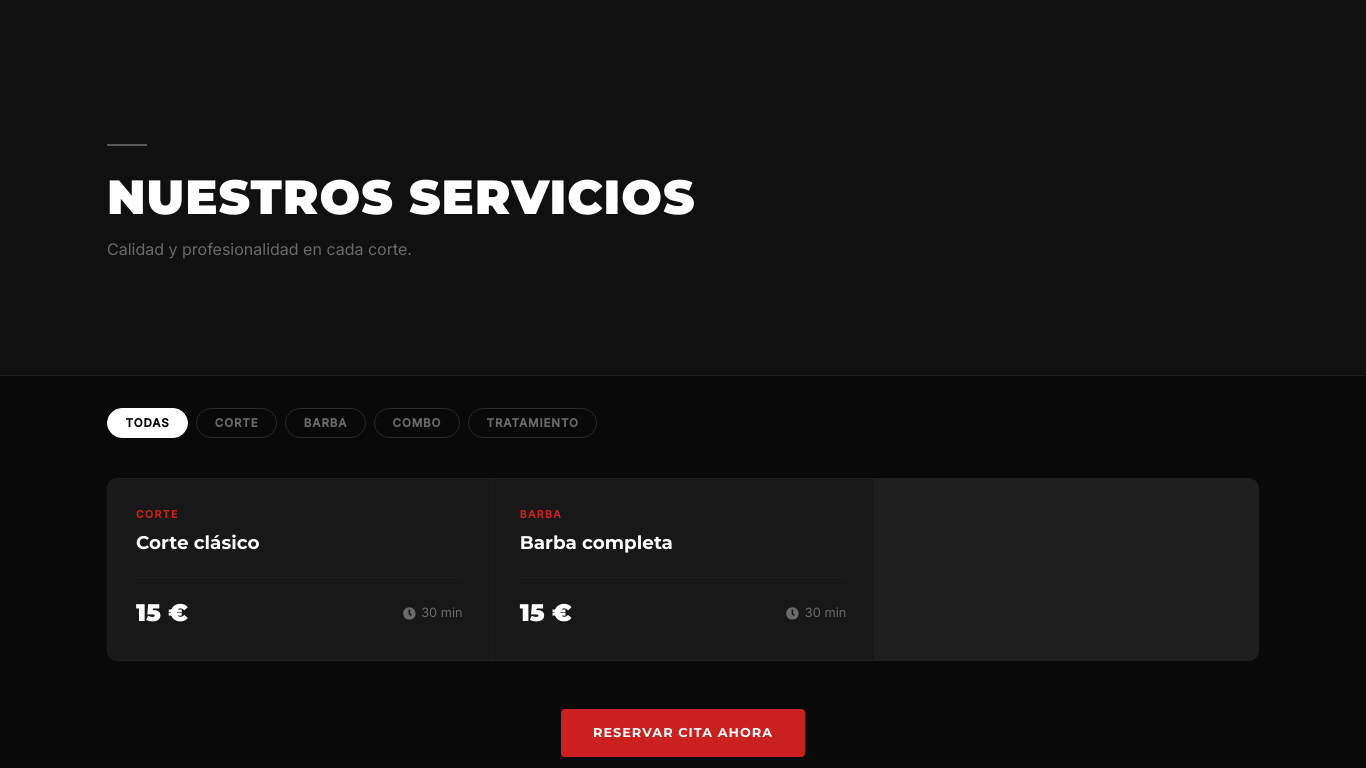
Scenario: Services › filtra por categoría al pulsar una pestaña
Expected: the heading "Corte clásico" is shown, x1=136 y1=531 x2=260 y2=554
Click the button "Barba": click(326, 423) x1=285 y1=408 x2=366 y2=438
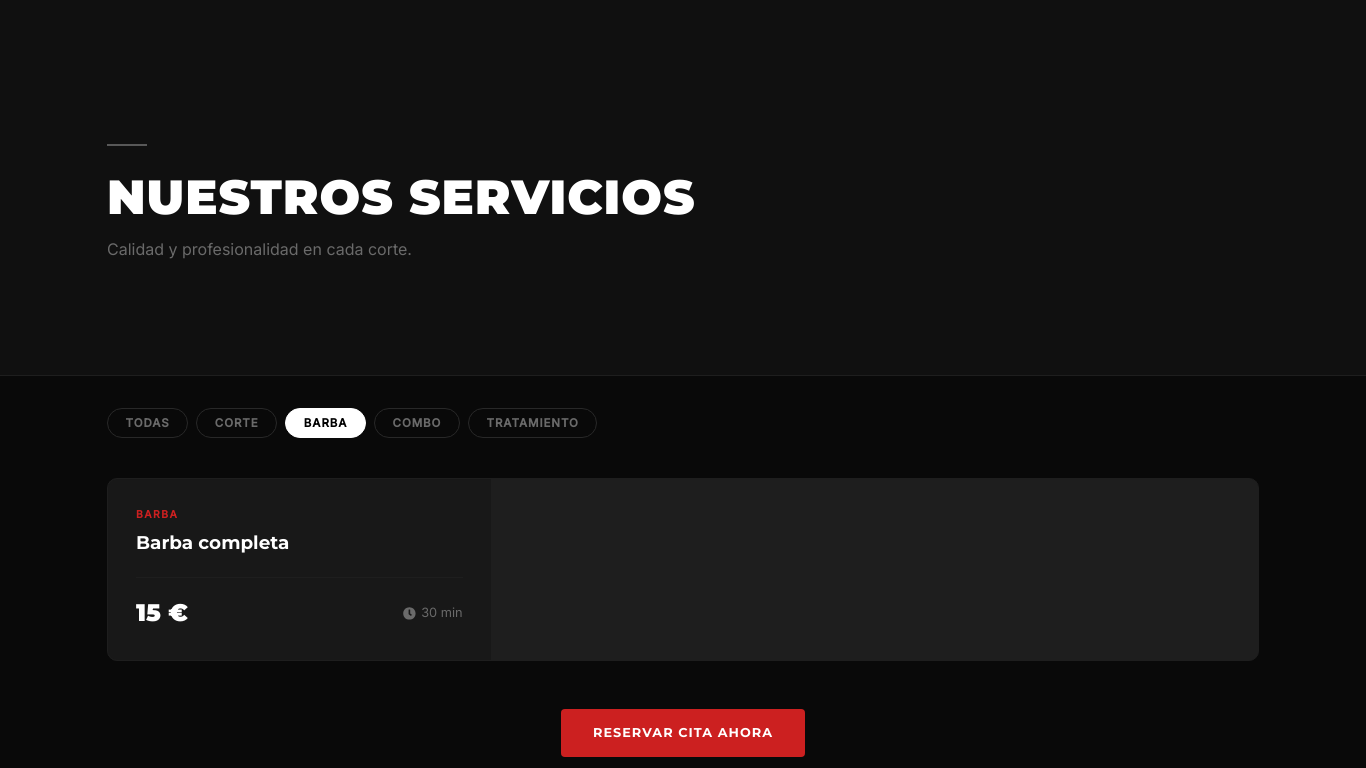
Expected: the heading "Barba completa" is shown, x1=136 y1=531 x2=289 y2=554
Now the heading "Corte clásico" is gone
